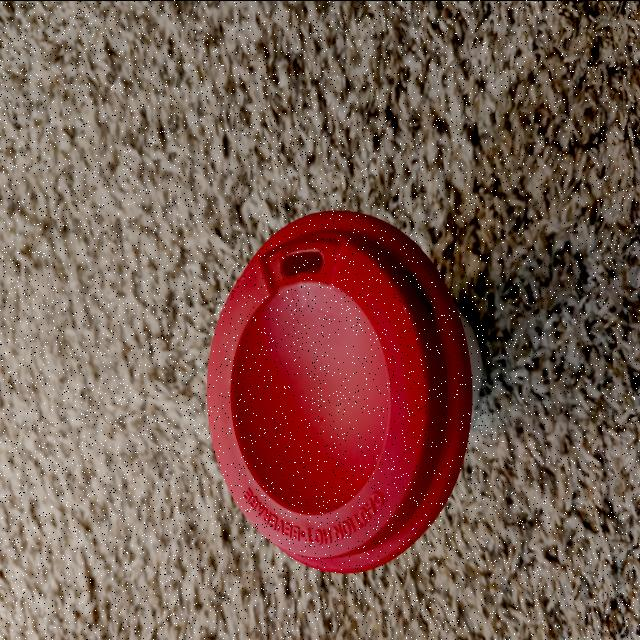mug: (204, 220, 486, 564)
